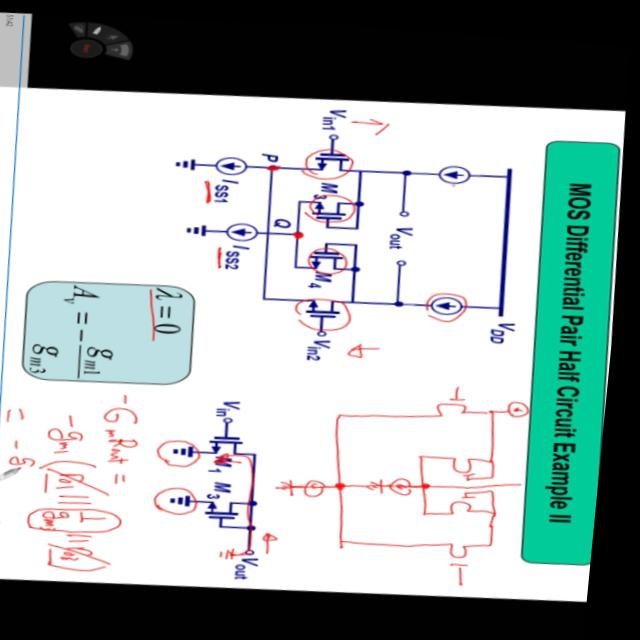panseo: (261, 354, 557, 593), (0, 374, 183, 582), (146, 407, 316, 570)
